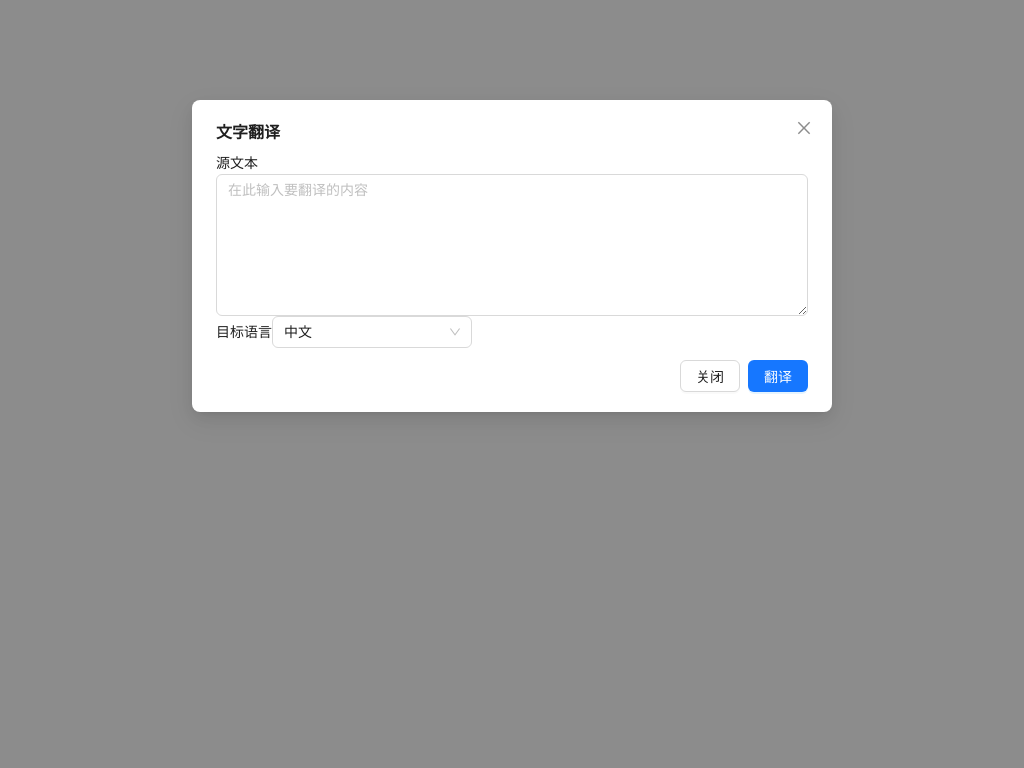
文字翻译面板 › 未配置服务地址时给出明确中文指引
The width and height of the screenshot is (1024, 768).
Step 1. Type "你好" into the text box with placeholder "在此输入要翻译的内容" → x=512, y=245, box [216, 174, 808, 316]
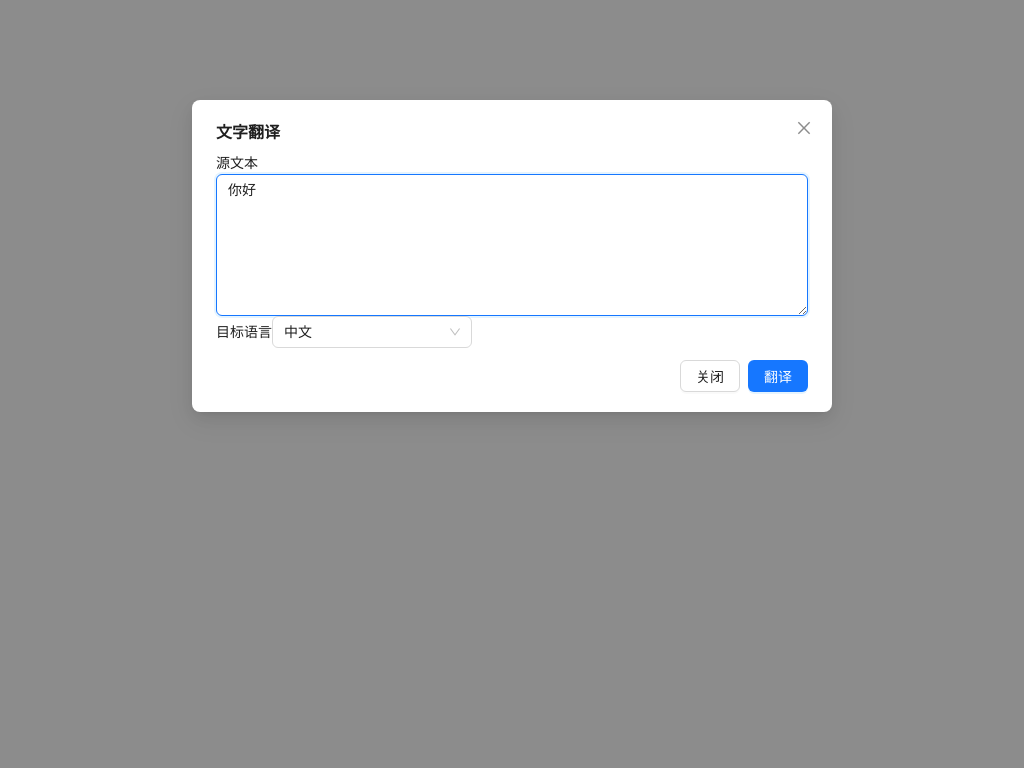
Step 2. Click the button "翻译" → x=778, y=376, box [748, 360, 808, 392]
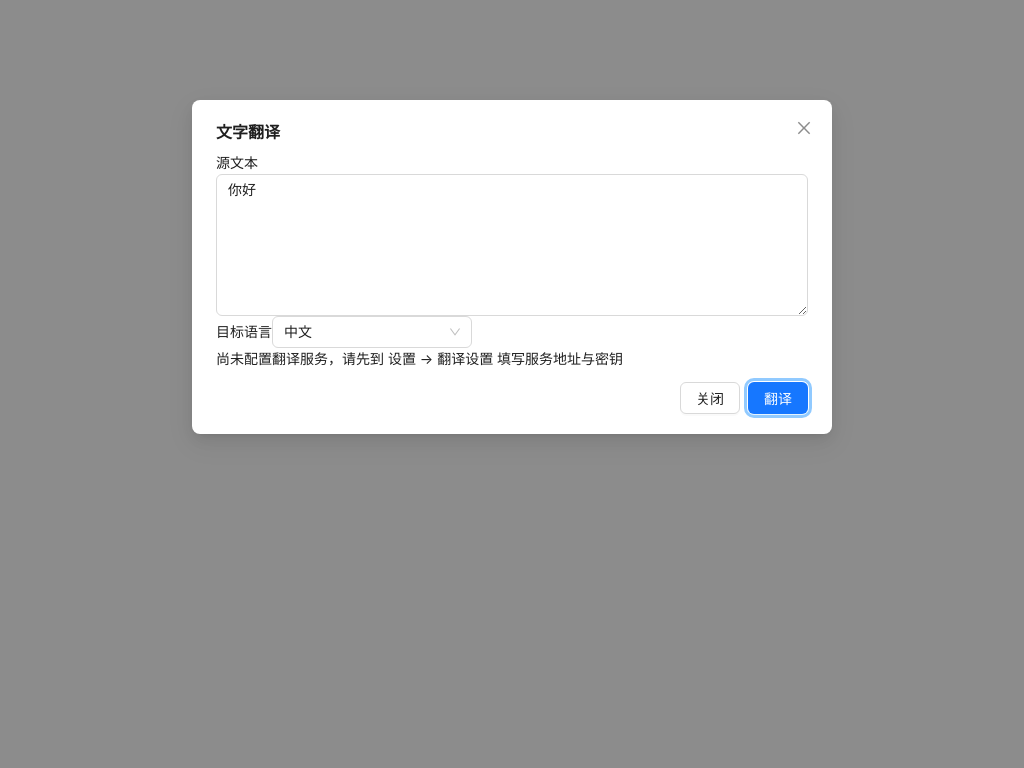
expect the text "尚未配置翻译服务，请先到 设置 → 翻译设置 填写服务地址与密钥" is shown: met, box [216, 350, 623, 367]
